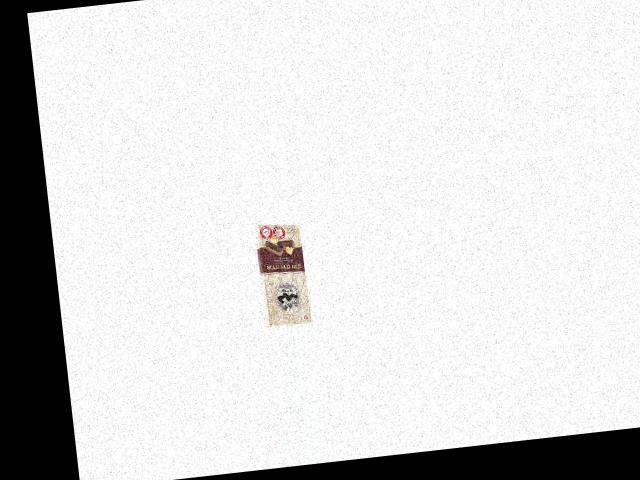chocolate: (246, 218, 313, 328)
